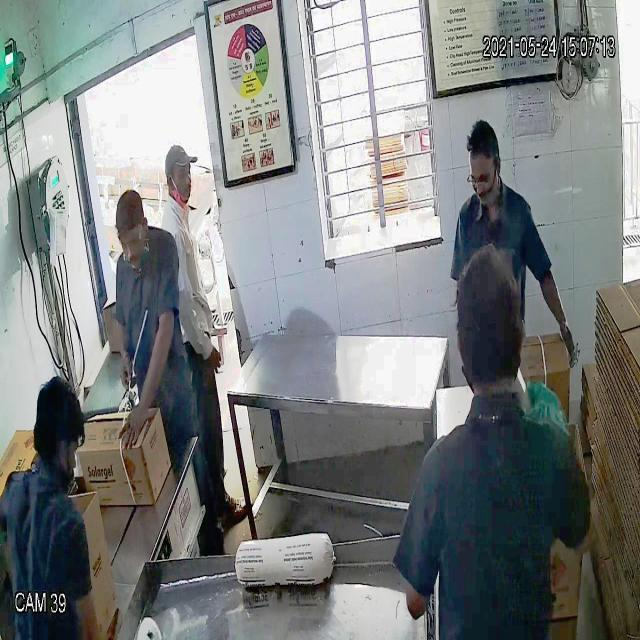glasses: (466, 159, 496, 199), (116, 228, 146, 256)
no-glass: (160, 162, 197, 188)
